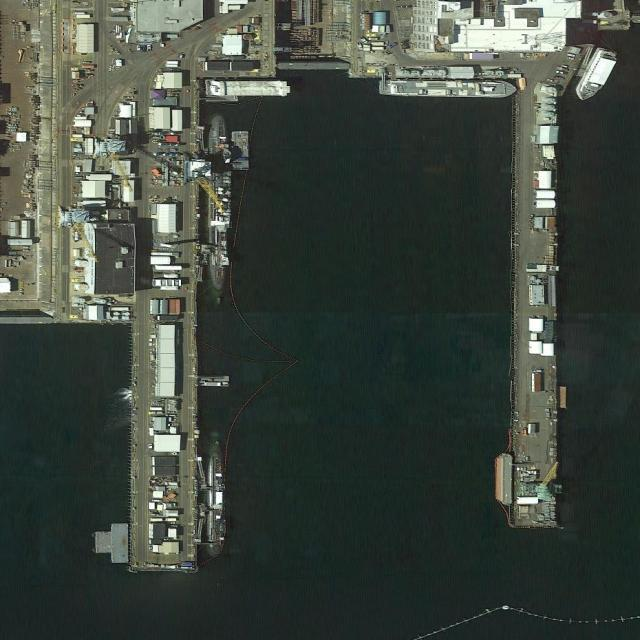Dock: (510, 84, 563, 528), (129, 321, 198, 573)
Submarine: (210, 116, 227, 290), (207, 452, 223, 556)
